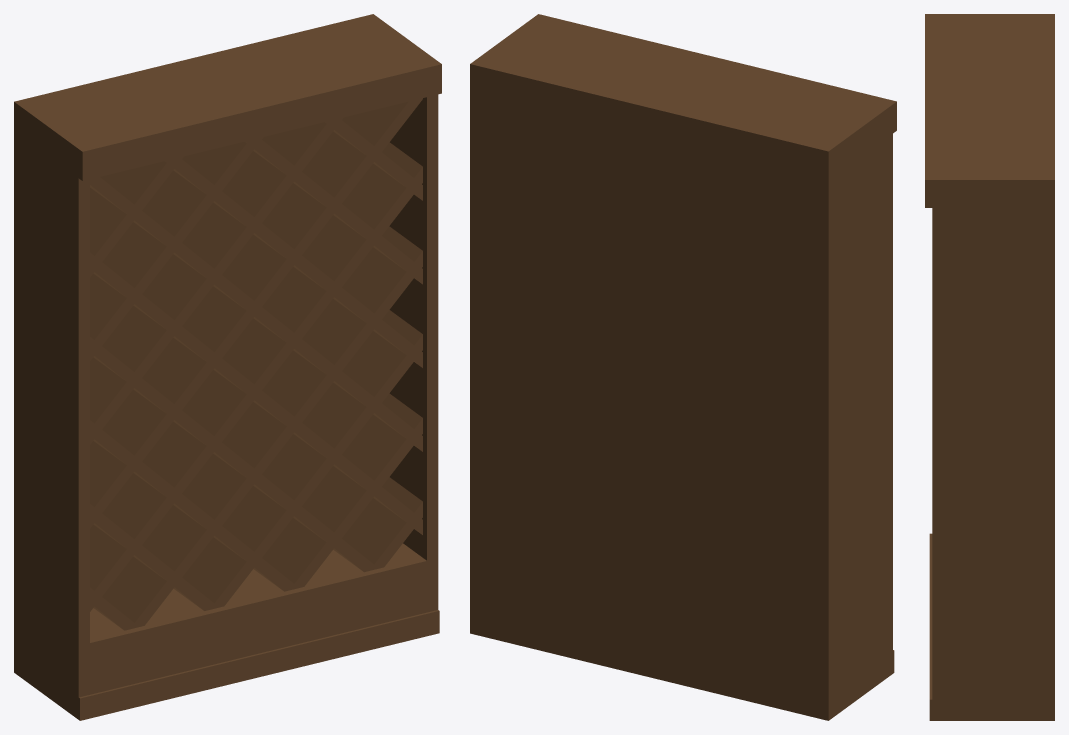
File: Bookshelf_002.fbx
The picture shows the model from 3 angles, left to right: view 1: azimuth 30°, elevation 25°; view 2: azimuth 150°, elevation 25°; view 3: azimuth 270°, elevation 25°; orthographic projection. The views are drawn at different scales.
Parts seen in each view (by area): view 1: bookshelf_002; view 2: bookshelf_002; view 3: bookshelf_002.
Boxes of the visible parts, <box> form: bookshelf_002: <box>14,14,441,720</box>; bookshelf_002: <box>470,14,896,720</box>; bookshelf_002: <box>925,14,1054,720</box>.
Size of the model in its own units: 200 by 304 by 66.07.
